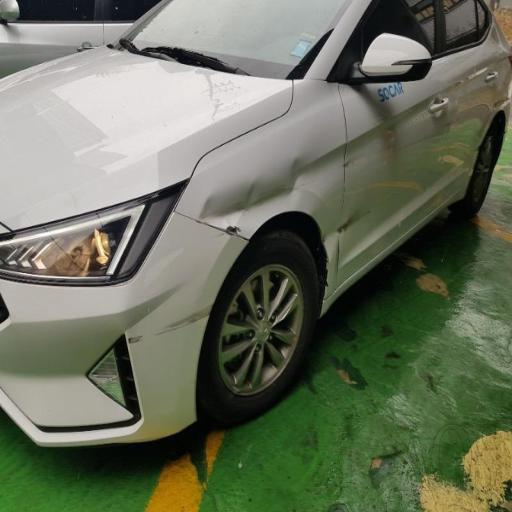dent: (186, 116, 346, 244)
scratch: (137, 286, 214, 356)
